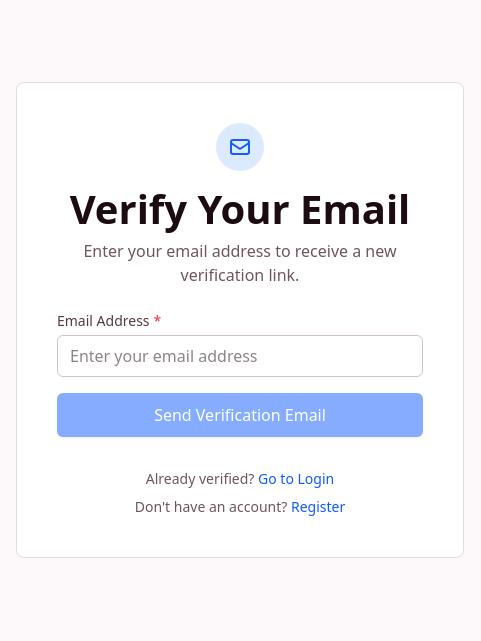
Test: ResendVerificationPage › sends verification email successfully
Type "test@example.com" into the field labelled "Email Address*".
click(240, 356); type("test@example.com")  # box x1=57 y1=335 x2=423 y2=377
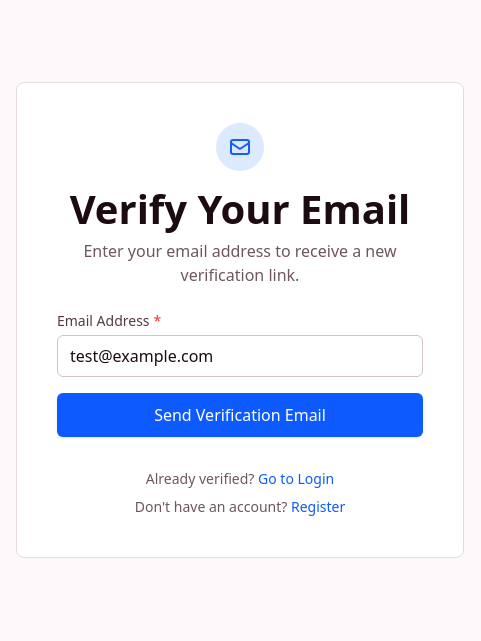
Click the button "Send Verification Email".
click(240, 415)  # box x1=57 y1=393 x2=423 y2=437
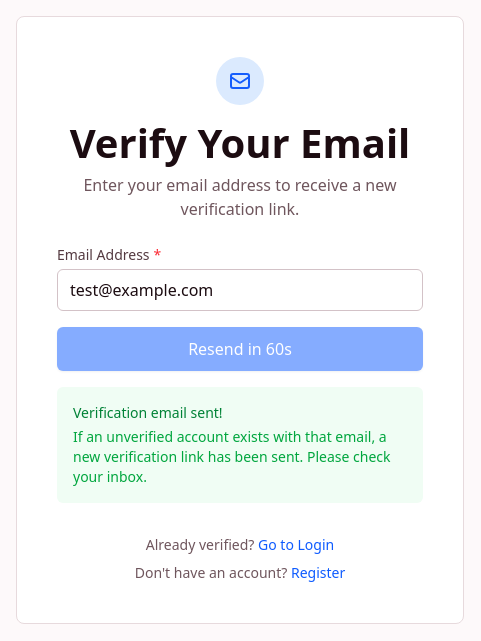
Result: the text "Verification email sent!" is shown at x1=73 y1=403 x2=223 y2=422
